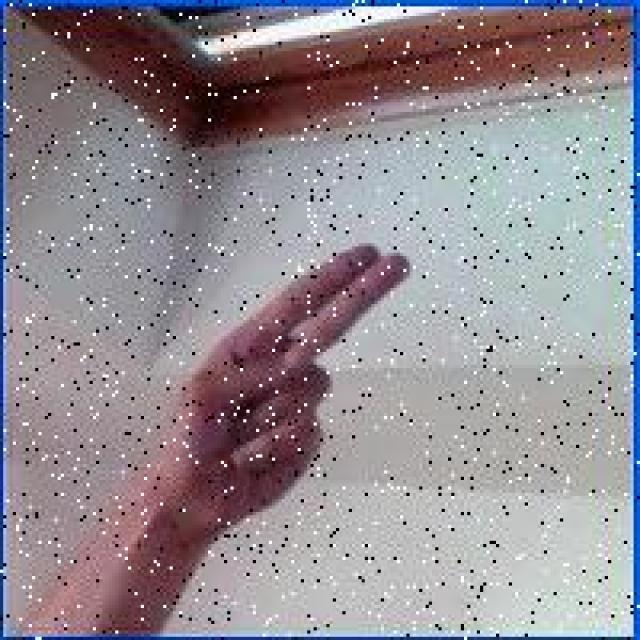H: (158, 240, 414, 544)
